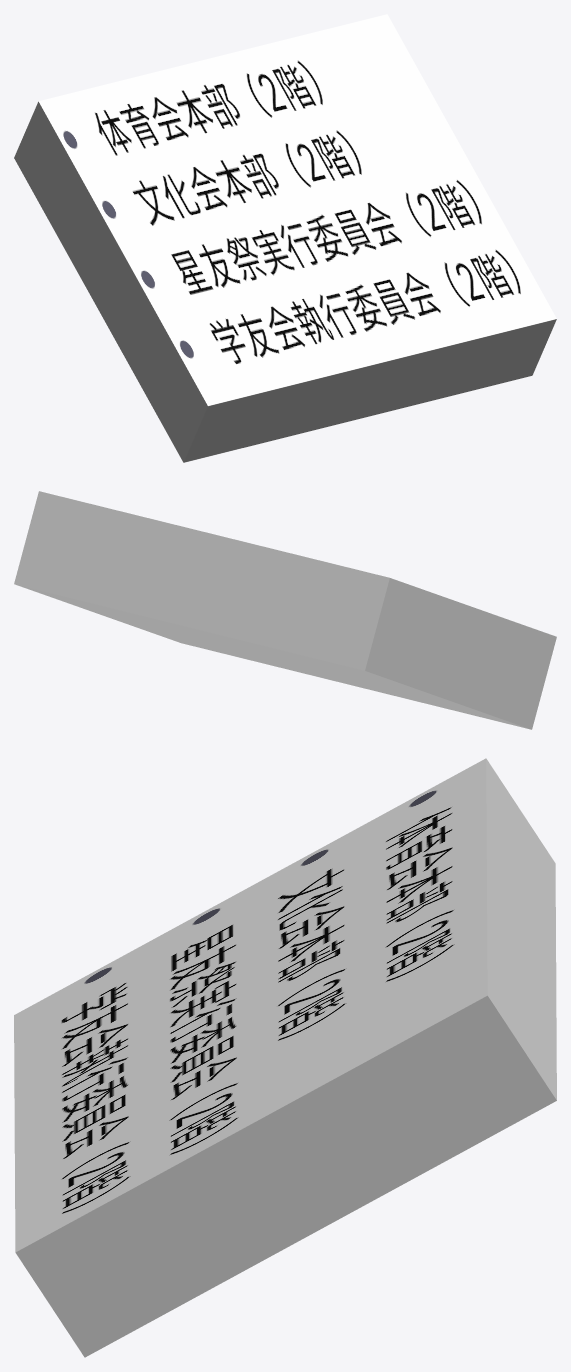
3 renders of one model, top to bottom at view 1: azimuth 30°, elevation 25°; view 2: azimuth 150°, elevation 25°; view 3: azimuth 270°, elevation 25°, orthographic. The views are drawn at different scales.
Visible parts, largest first — view 1: 立方体; view 2: 立方体; view 3: 立方体.
Boxes of the visible parts, x1,y1,x2,y2 form: 立方体: (14, 14, 556, 462); 立方体: (14, 491, 556, 729); 立方体: (14, 758, 556, 1357).
Size of the model in its own units: 0.5038 by 0.3546 by 0.4803.
Materials: 2 (1 with a texture image).
